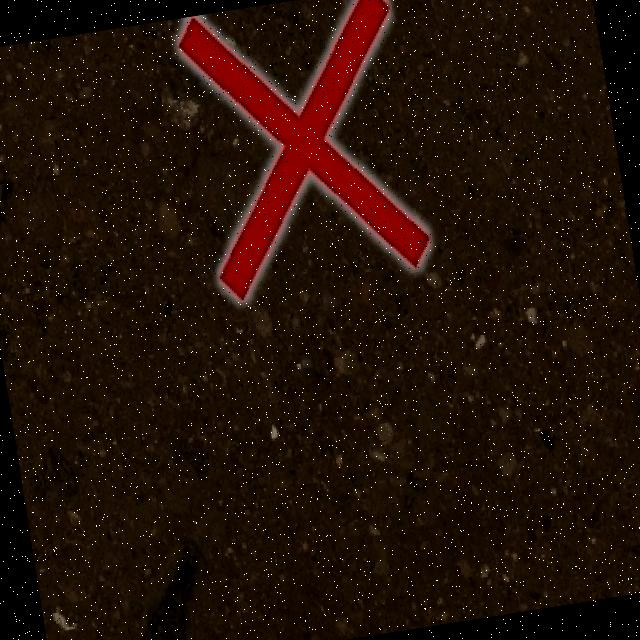x_marker: (174, 0, 432, 303)
